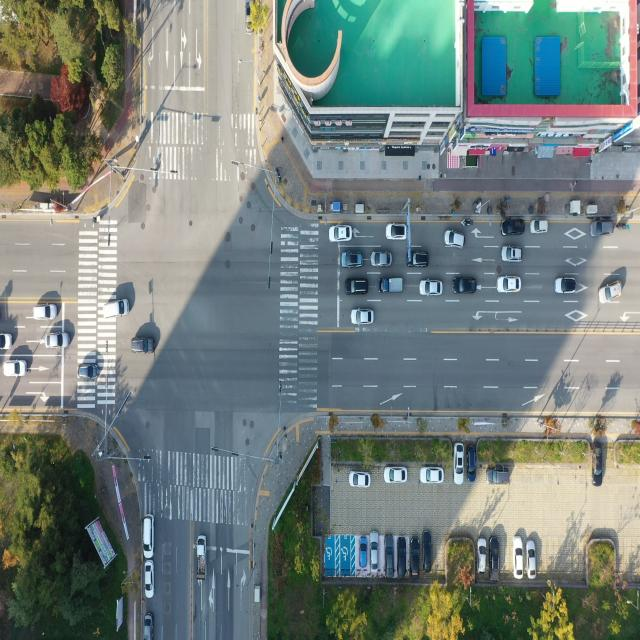car: (599, 282, 623, 304), (104, 300, 129, 320), (143, 518, 154, 561), (514, 537, 525, 579), (422, 530, 433, 572), (592, 440, 603, 480), (491, 537, 501, 580), (421, 466, 444, 484), (3, 360, 26, 378), (384, 466, 407, 484), (132, 338, 155, 356), (501, 218, 524, 236), (555, 278, 578, 296), (488, 467, 511, 485), (455, 443, 465, 484), (396, 537, 406, 578), (34, 305, 58, 322), (369, 535, 379, 575), (412, 536, 422, 576), (497, 277, 520, 294), (386, 536, 395, 578), (342, 252, 364, 269), (454, 278, 476, 295), (592, 220, 614, 237), (420, 282, 443, 298), (46, 334, 69, 350), (331, 228, 354, 244), (466, 445, 476, 481), (144, 563, 154, 599), (352, 310, 373, 327), (386, 224, 407, 241), (350, 473, 371, 490), (408, 251, 429, 268), (78, 363, 99, 380), (346, 280, 368, 296), (527, 539, 536, 578), (446, 233, 466, 250), (480, 538, 489, 574), (372, 252, 393, 267), (501, 247, 521, 262), (530, 219, 548, 234), (360, 536, 368, 569), (142, 614, 152, 640), (0, 335, 13, 353), (245, 1, 252, 34)
small_truck: (198, 537, 208, 582), (380, 278, 404, 295)
